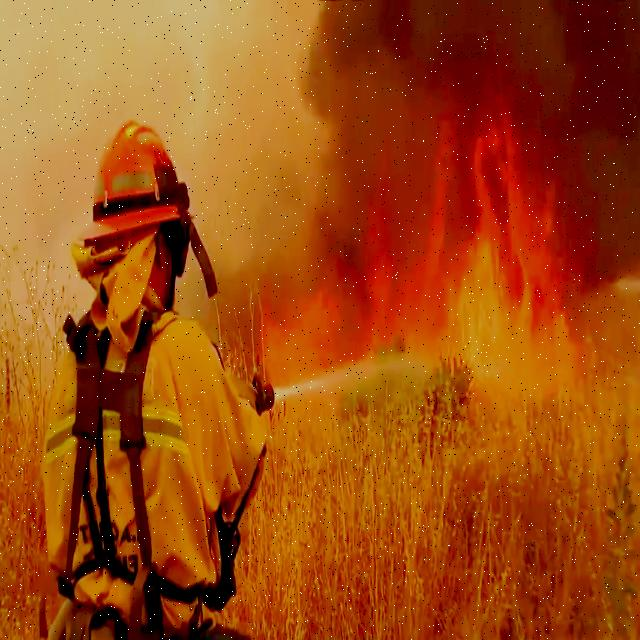api: (401, 113, 597, 409), (256, 263, 340, 392), (361, 164, 405, 366)
asap: (295, 1, 640, 349)
